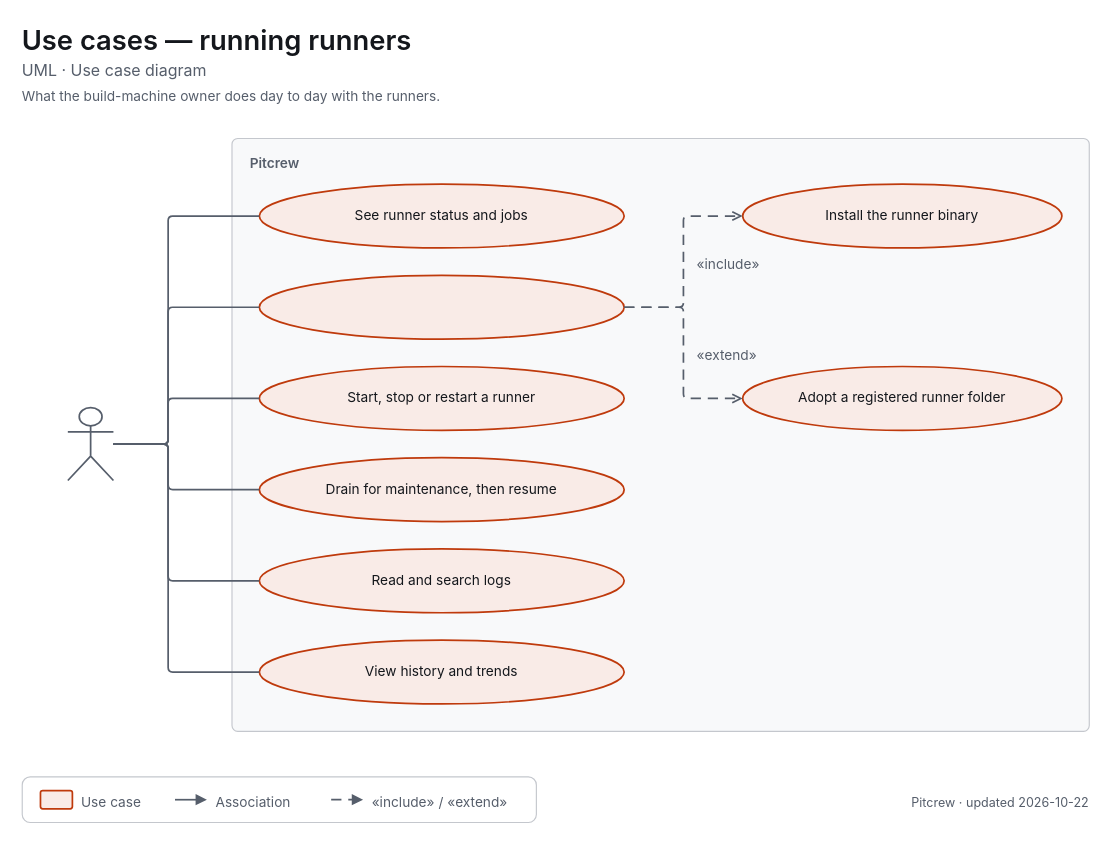
The diagram is 1109 pixels wide and 842 high, and some of its shapes have lost their labels. Here are the shapes that lost their labels. From the top down, the centre of each, then its label:
point 441,306: Register a runner
point 90,443: Build-machine owner
